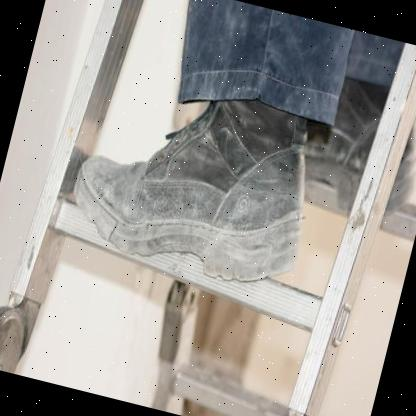bota: (58, 57, 336, 302)
